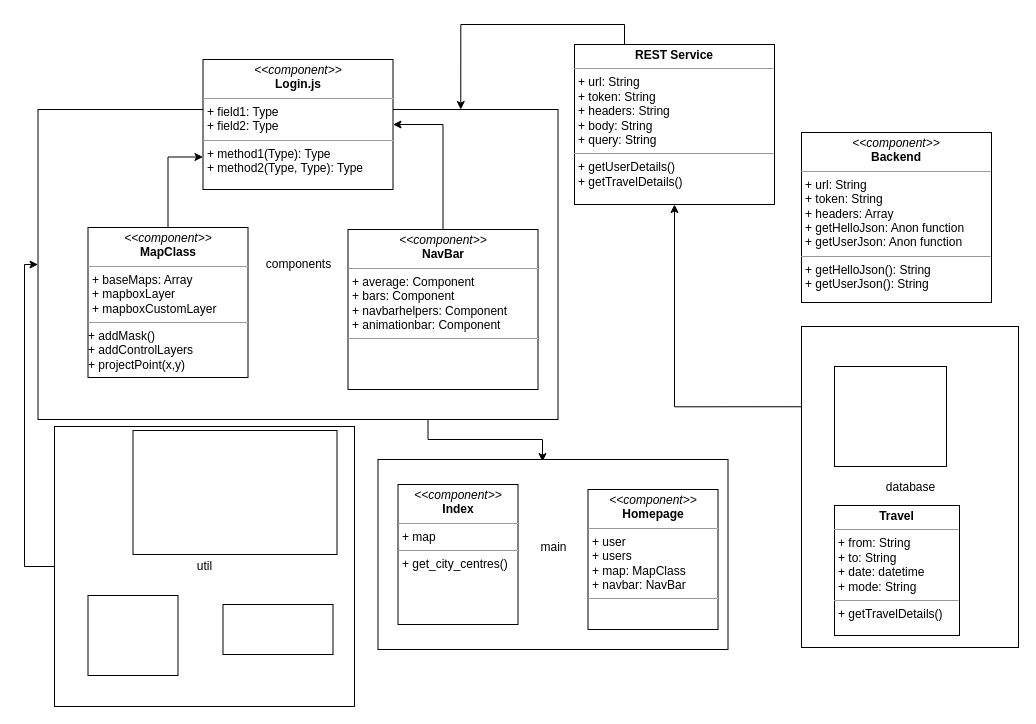
Some shapes in this 1036 by 724 pixel diagram are drawn without their labels. Here are the shapes that lost their labels. From the top down, the centre of each, then its label:
At (890,416): "User + email: String + password: String + getUserDetails()".
At (234,492): "<<component>> App + constructor(props) + componentDidMount(): void + render()".
At (132,635): "<<Provider>> Redux + store".
At (277,629): "«container» DOM".
